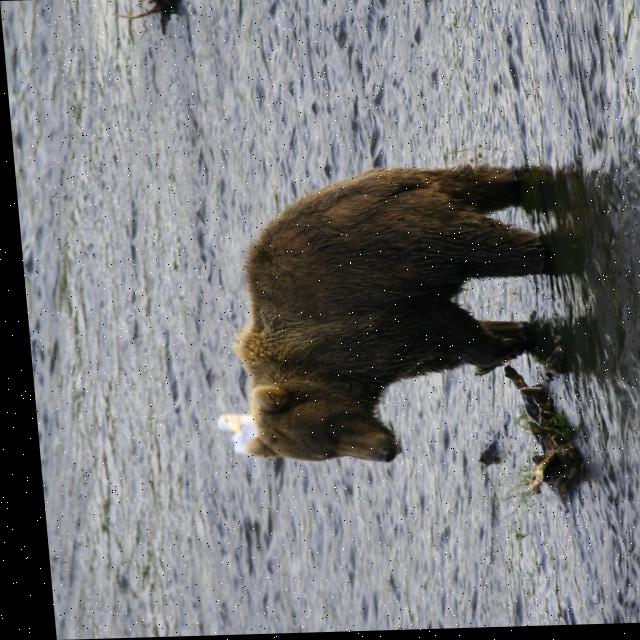bear face: (216, 166, 549, 468)
